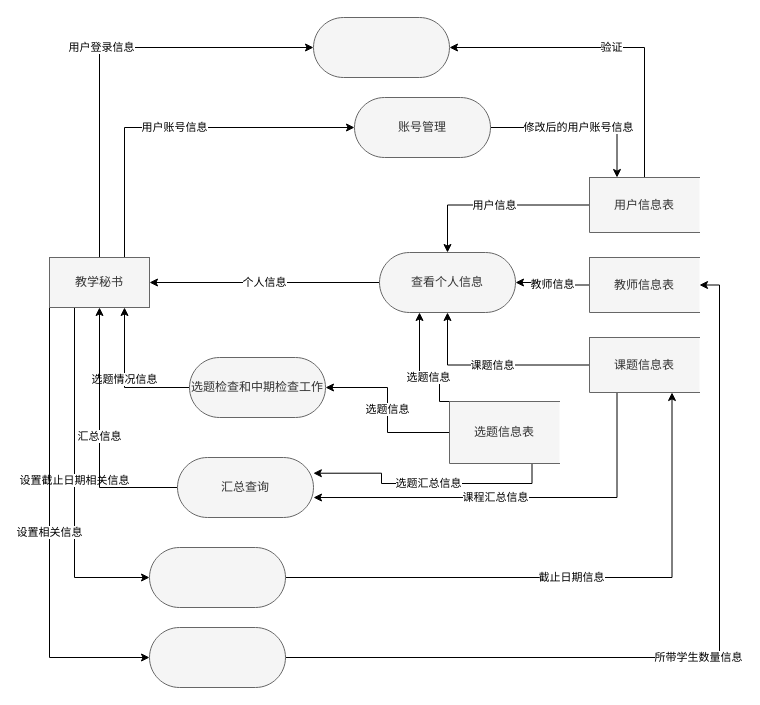
This 760x705 diagram has some shape labels left out. The centre of each missing label's shape, as x and y in pixels:
"用户登录" goes at pixel 381 47.
"设置截止日期" goes at pixel 217 577.
"设置教师所带学生数量" goes at pixel 217 657.
